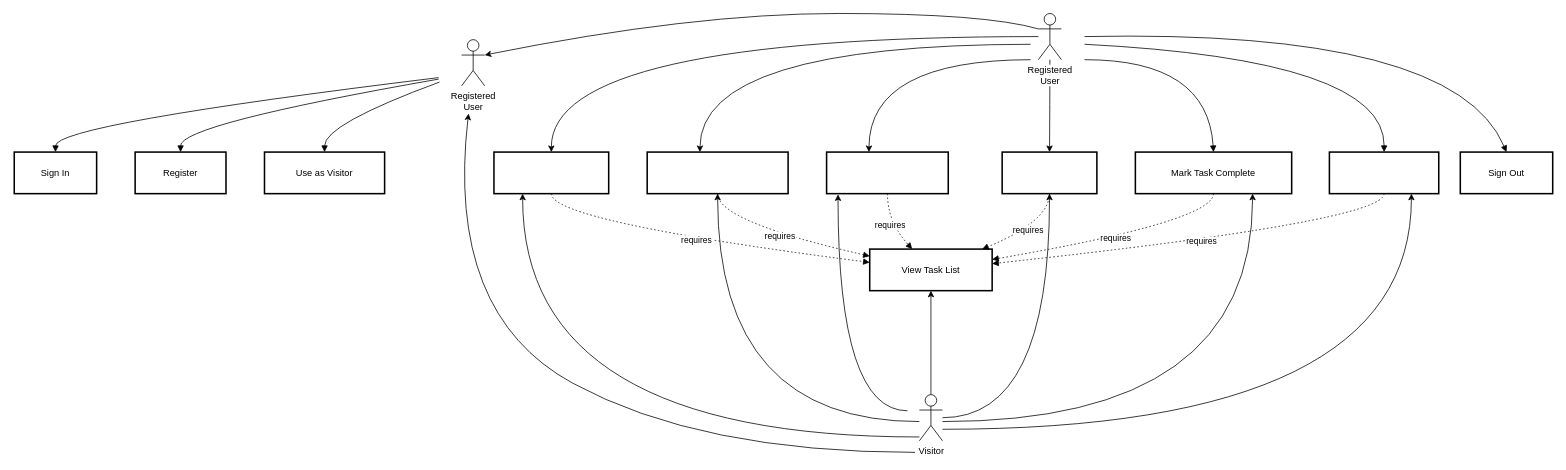
Some shapes in this 1566 by 470 pixel diagram are drawn without their labels. The box of each missing label's shape, as (x1, y1, x2, y2) in pixels:
Add New Task: (825, 151, 949, 194)
Delete Task: (1328, 151, 1439, 194)
Edit Task: (1001, 151, 1097, 194)
Search Tasks: (493, 151, 609, 194)
View Task Details: (646, 151, 788, 194)
